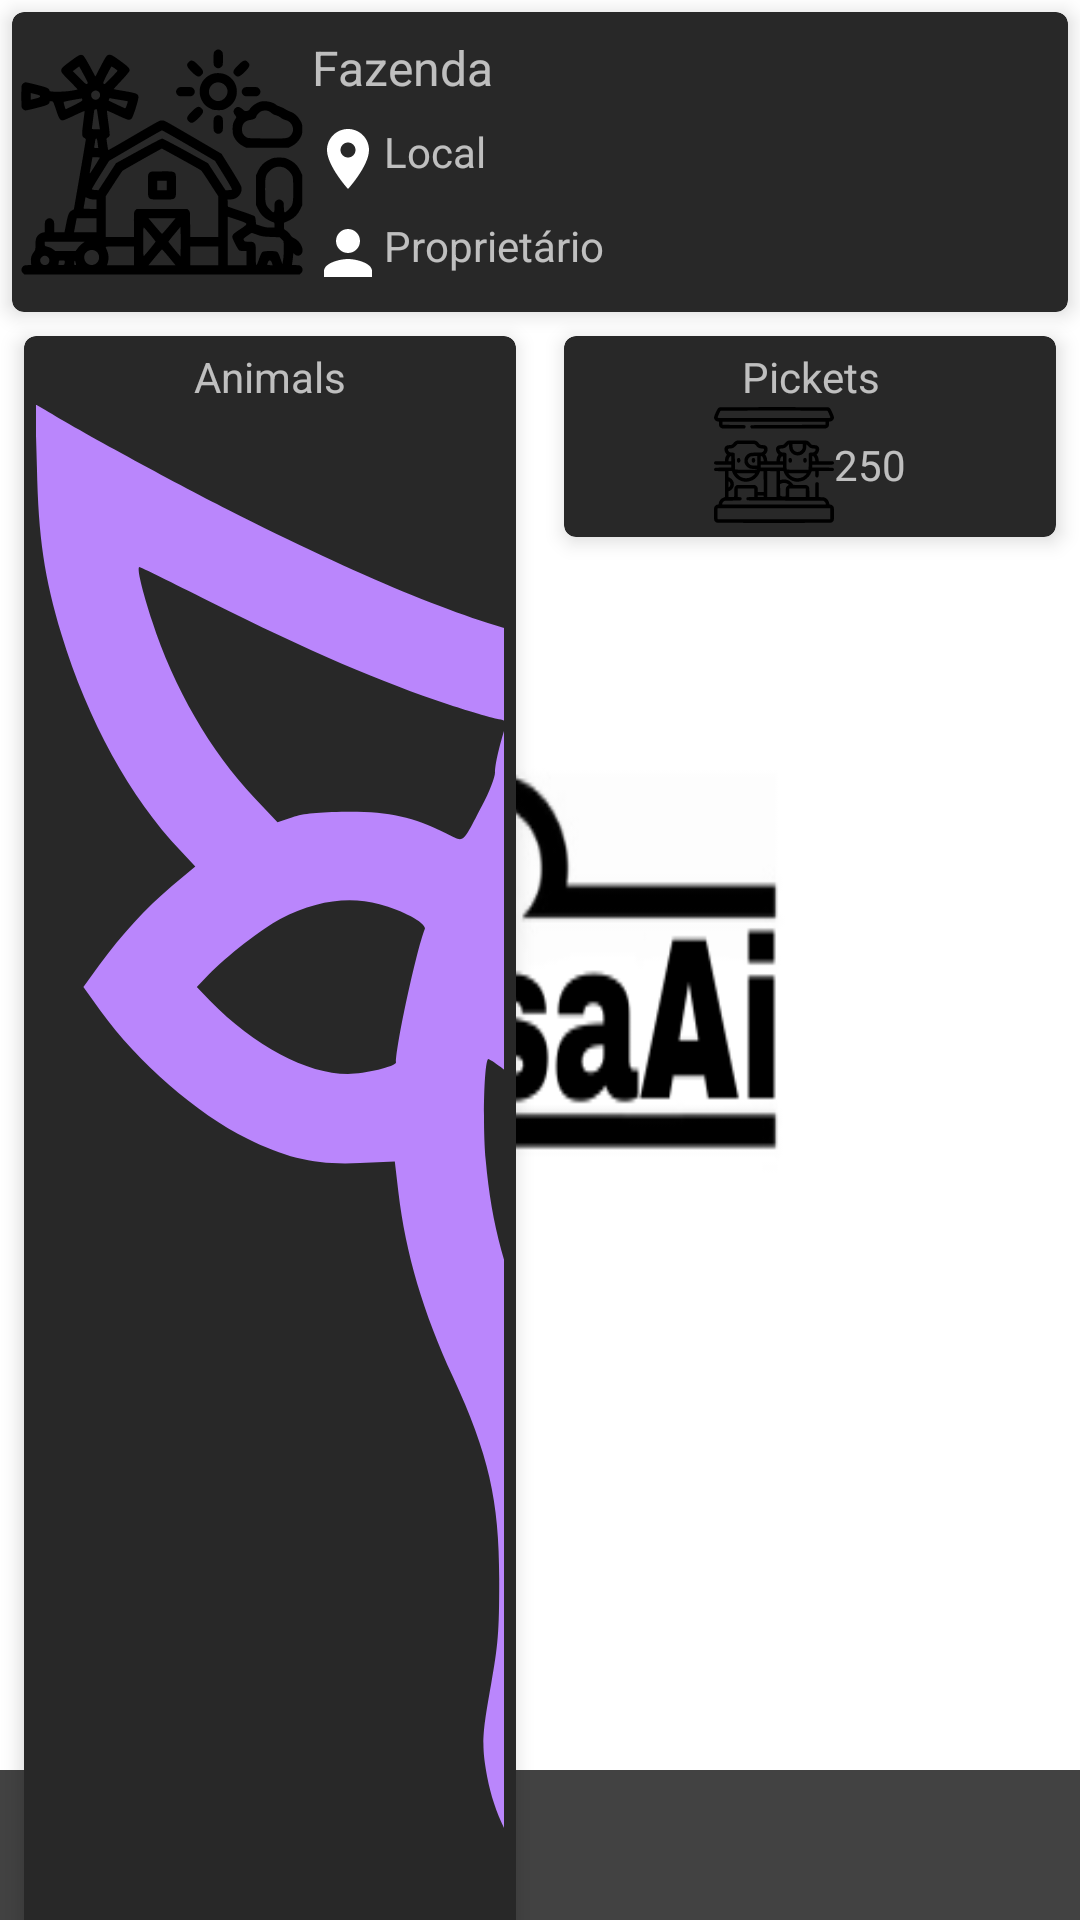

Screen size 1080px×1920px. Icon name, then its center in pixels as (x=x, y=y):
farm: (x=162, y=162)
